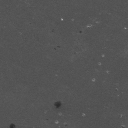corrosion: (54, 101, 62, 109), (78, 29, 83, 34), (60, 17, 64, 22), (101, 54, 106, 58), (92, 77, 95, 82)
